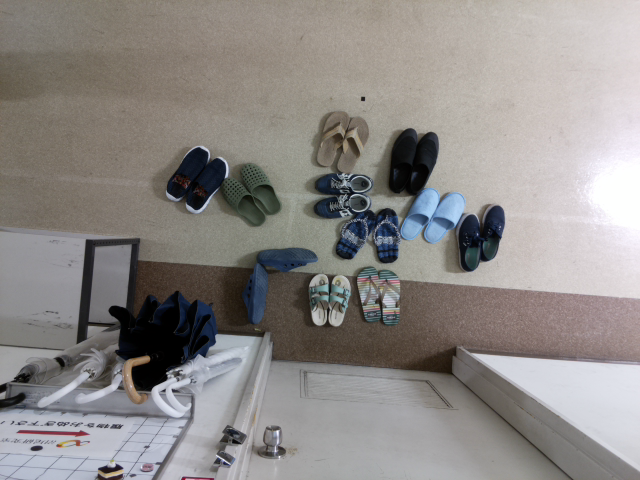Copy of Copy of Copy of Copy of Copy of Copy of Copy of Copy of Copy of Copy of: (421, 186, 471, 247), (396, 185, 446, 245), (332, 204, 379, 262), (310, 168, 378, 204), (257, 240, 325, 276), (310, 190, 372, 225), (373, 265, 404, 331), (306, 268, 337, 334), (355, 263, 385, 330), (324, 269, 354, 335), (239, 262, 269, 328), (371, 201, 401, 267)
Copy of Copy of Copy of Copy of Copy of Copy of Copy of Copy of Copy of shoe: (450, 209, 490, 283)
Copy of Copy of Copy of Copy of Copy of Copy of Copy of Copy of shoe: (473, 195, 513, 269)
Copy of Copy of Copy of Copy of Copy of Copy of Copy of shoe: (408, 127, 448, 201)
Copy of Copy of Copy of Copy of Copy of Copy of shoe: (381, 122, 421, 196)
Copy of Copy of Copy of Copy of Copy of shoe: (332, 112, 371, 175)
Copy of Copy of Copy of Copy of shoe: (313, 107, 353, 170)
Copy of Copy of Copy of shoe: (234, 158, 285, 222)
Copy of Copy of shoe: (218, 170, 268, 234)
Copy of shoe: (181, 151, 232, 215)
shoe: (163, 142, 211, 205)
